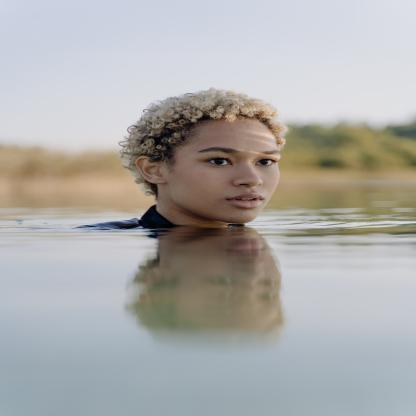Eye: (203, 157, 236, 168), (207, 291, 233, 301), (208, 276, 233, 286), (256, 278, 279, 288), (257, 293, 276, 303), (254, 159, 277, 167)
Mouth: (223, 191, 265, 210), (226, 238, 268, 257)
Nose: (232, 257, 266, 285), (232, 162, 263, 188)
